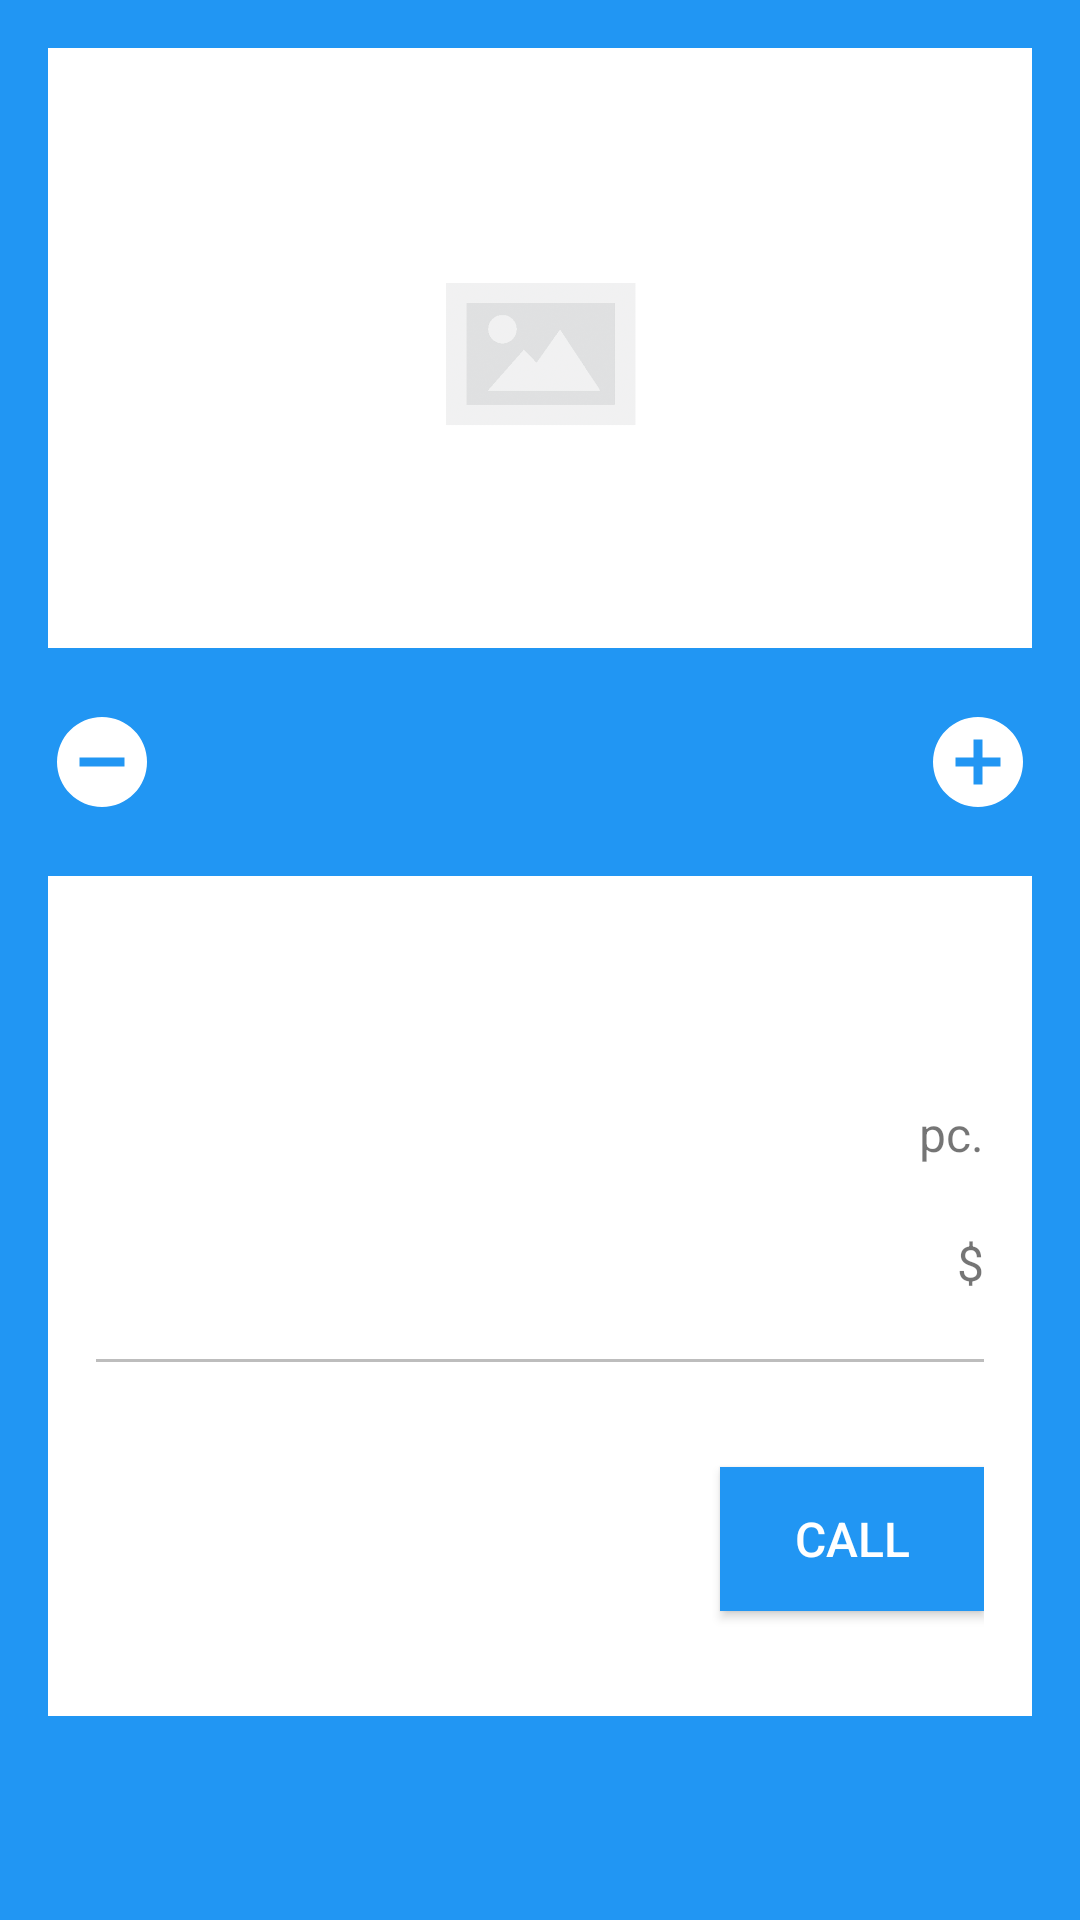

Locate icon controls on the screen. Image size 1080 x 1920, boxes as {"left": x1, "top": y1, "right": x2, "bottom": y2}.
Add: {"left": 933, "top": 717, "right": 1023, "bottom": 807}
